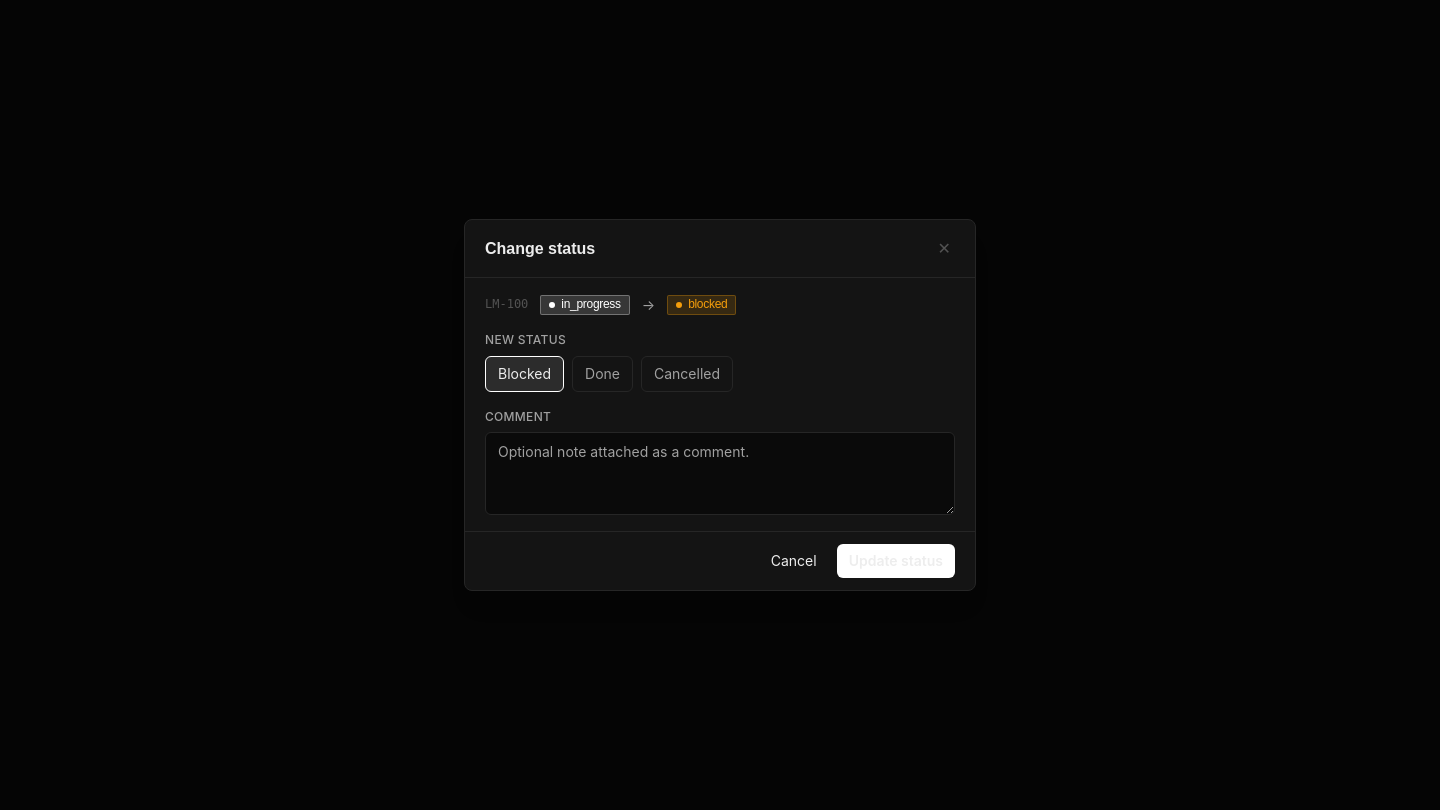
it: TaskStatusModal › surfaces daemon EVIDENCE_REQUIRED errors and stays open
Click the radio button with test id "task-status-option-done".
click(602, 374)  # box [572,356,633,392]
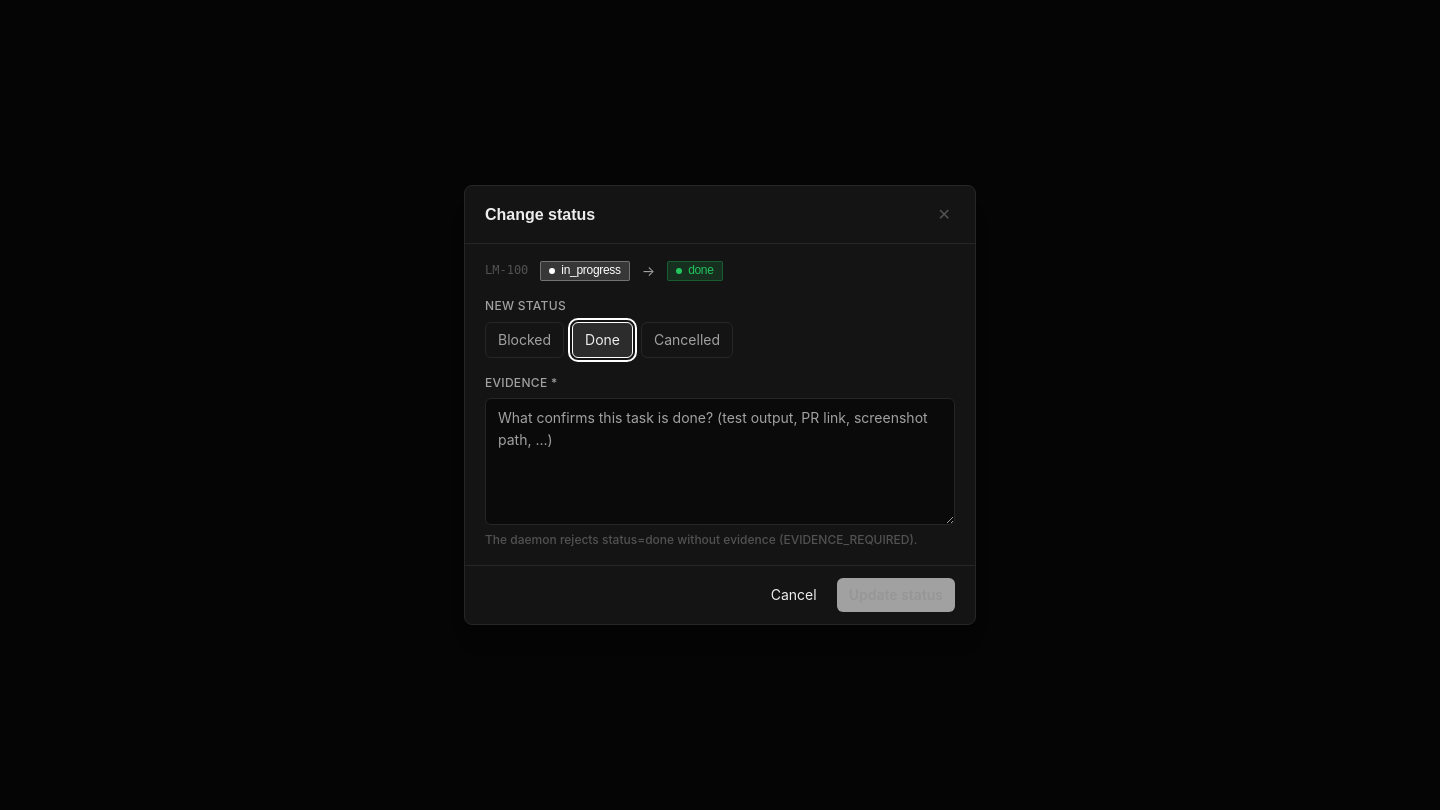
Type "shipped" into the text box with test id "task-status-evidence".
click(720, 462); type("shipped")  # box [485,398,955,525]
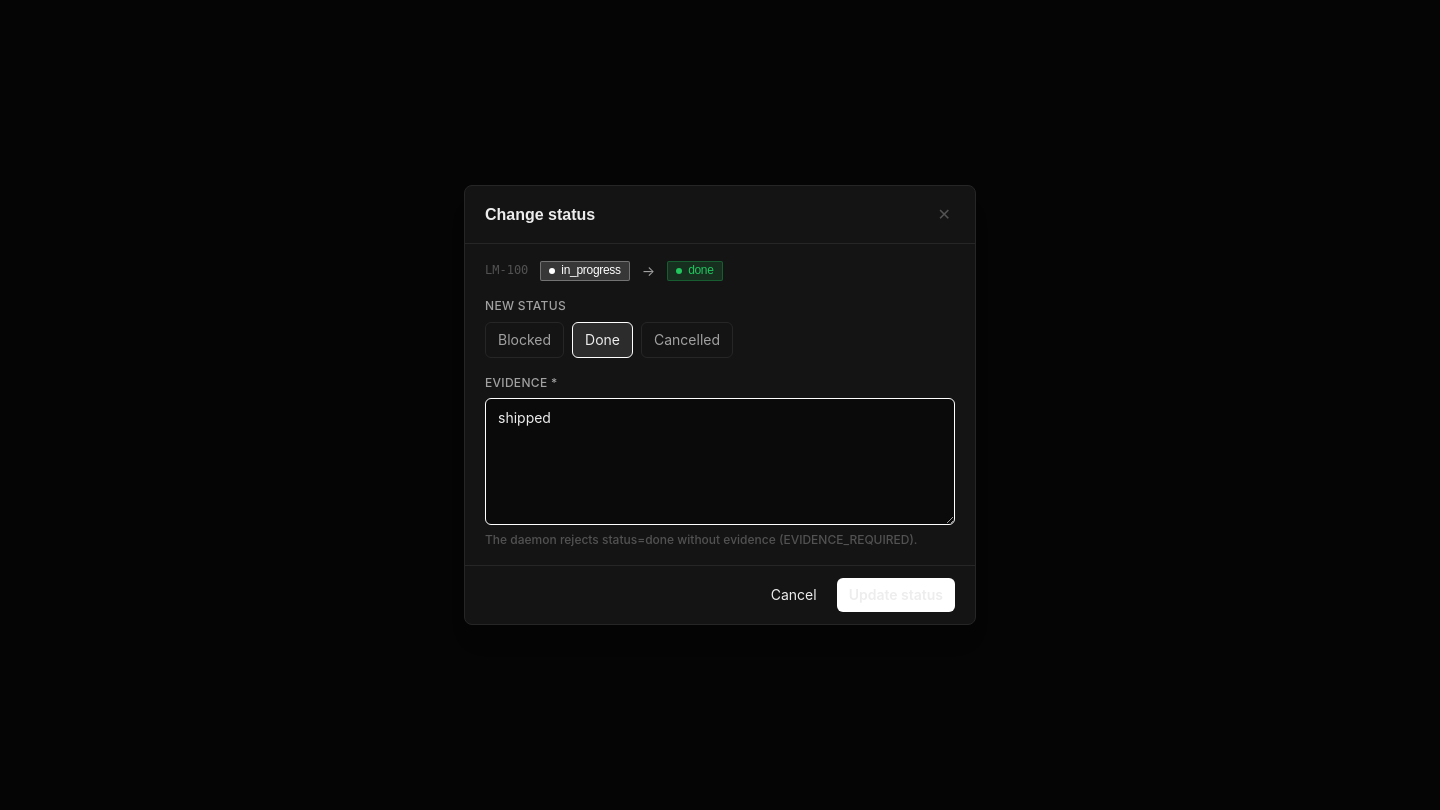
Click the button with test id "task-status-submit".
click(896, 595)  # box [837,578,955,612]
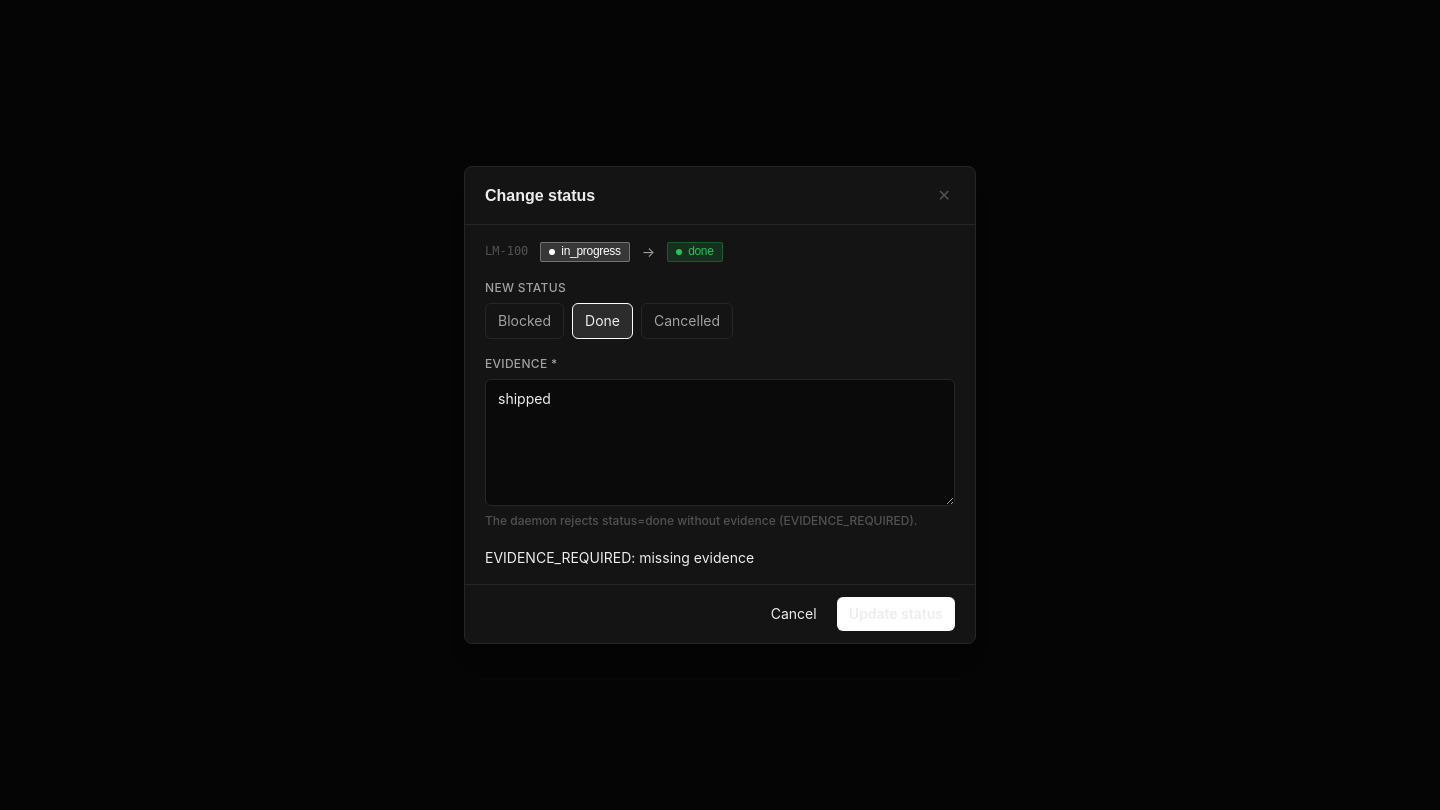
Now the message with test id "task-status-error" reads "EVIDENCE_REQUIRED: missing evidence", box [485,548,754,566]
